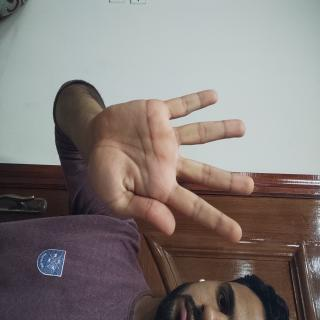SHEEN: (59, 74, 191, 320)
